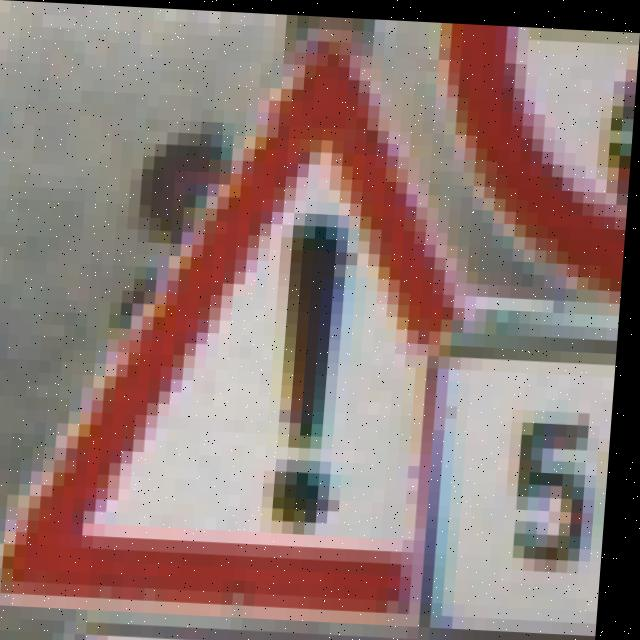speed_limit_50: (427, 345, 616, 640)
warning: (112, 54, 453, 623)
